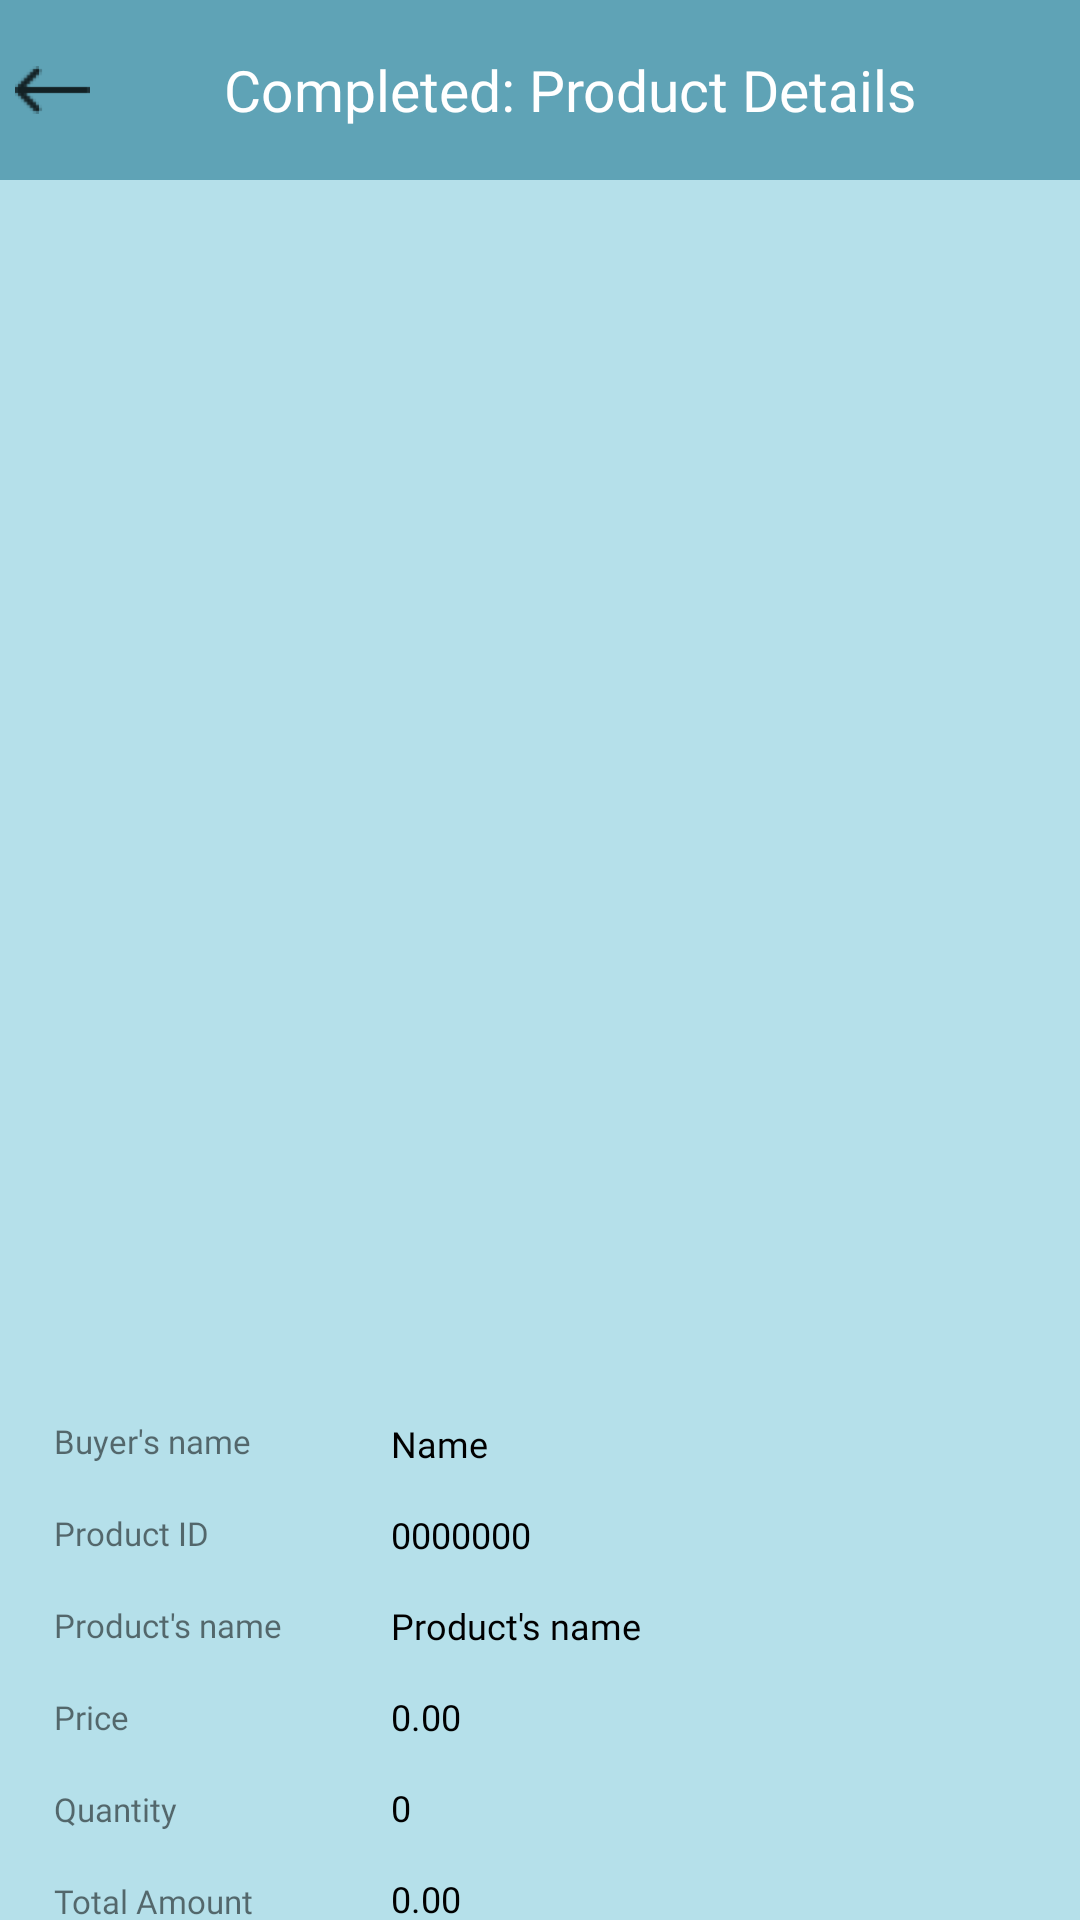

Icons on this 1080 x 1920 Android screen, each with its box as (x1, y1, x2, y2):
back: (15, 66, 90, 114)
